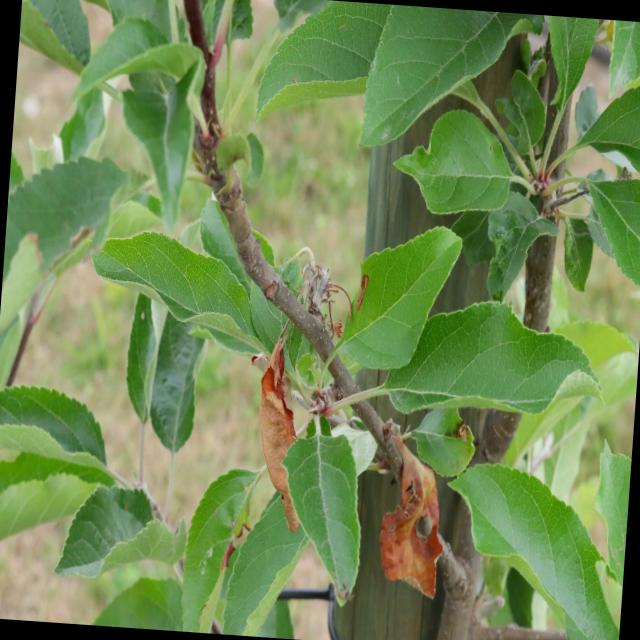-FireBlight-: (232, 330, 318, 534), (360, 421, 454, 598)
